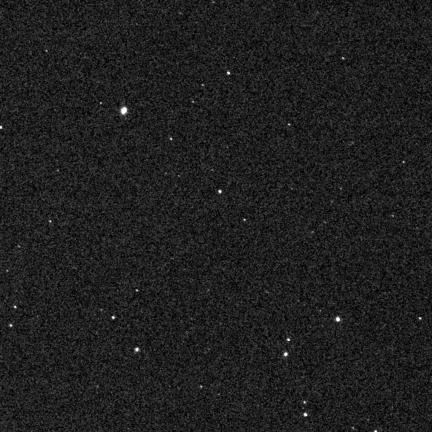blob: (121, 107, 127, 115), (135, 347, 140, 353), (335, 317, 340, 321), (9, 324, 13, 328), (284, 352, 288, 356), (287, 338, 291, 342), (135, 289, 139, 292), (49, 220, 52, 224), (218, 190, 221, 194), (0, 126, 3, 130), (303, 413, 307, 416), (227, 71, 230, 75), (112, 316, 115, 319), (14, 306, 17, 309), (170, 138, 173, 141), (243, 219, 246, 222)
